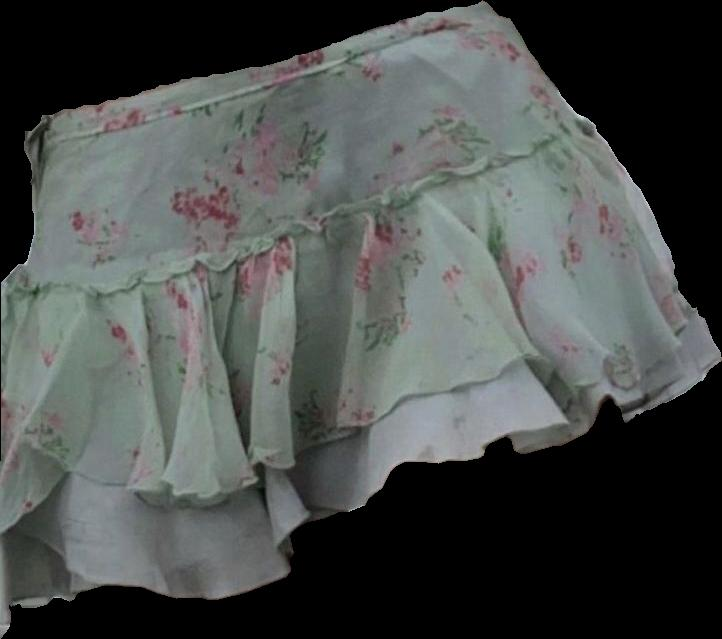Hemline: (0, 356, 721, 638), (0, 298, 690, 527)
Waistline: (12, 117, 588, 291), (42, 16, 506, 155), (36, 0, 483, 127)
